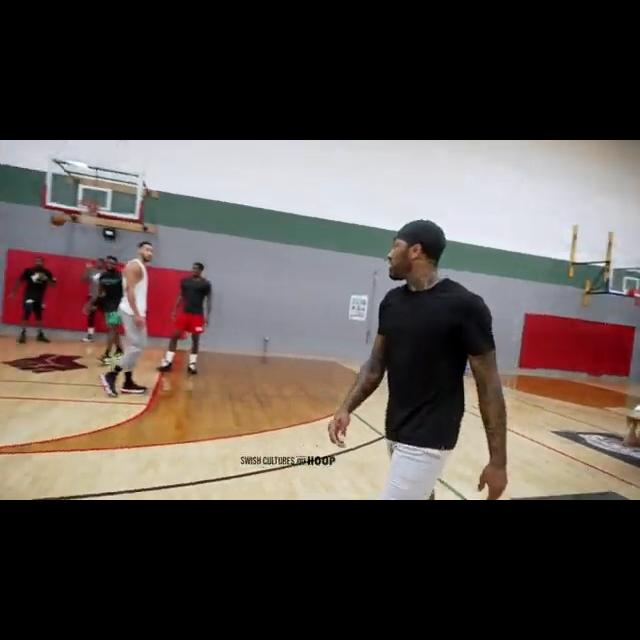basketball: (49, 208, 67, 227)
hoop: (77, 198, 101, 230)
